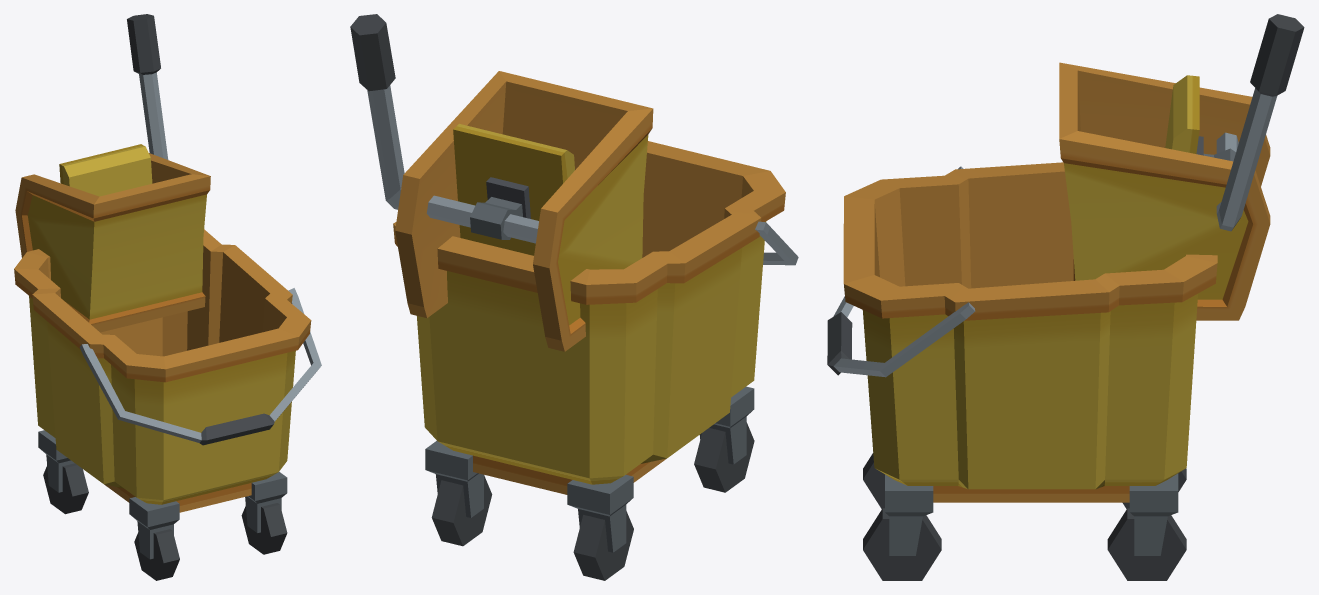
File: SM_Prop_Janitor_Bucket_02.obj
3 renders of one model, left to right at view 1: azimuth 30°, elevation 25°; view 2: azimuth 150°, elevation 25°; view 3: azimuth 270°, elevation 25°, orthographic. The views are drawn at different scales.
Parts seen in each view (by area): view 1: SM_Prop_Janitor_Bucket_02_0; view 2: SM_Prop_Janitor_Bucket_02_0; view 3: SM_Prop_Janitor_Bucket_02_0.
Boxes of the visible parts, bbox=[...] form: SM_Prop_Janitor_Bucket_02_0: bbox=[14, 14, 321, 580]; SM_Prop_Janitor_Bucket_02_0: bbox=[350, 14, 798, 580]; SM_Prop_Janitor_Bucket_02_0: bbox=[827, 14, 1304, 580].
Bounding box in the file's own units: 0.5361 × 1.01 × 0.7634.
Materials: 1 (1 with a texture image).
